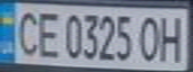0: (60, 9, 84, 60)
2: (97, 11, 118, 62)
3: (78, 10, 100, 61)
5: (115, 11, 139, 62)
C: (9, 7, 42, 57)
E: (33, 7, 63, 58)
H: (154, 11, 190, 63)
O: (136, 12, 163, 63)
